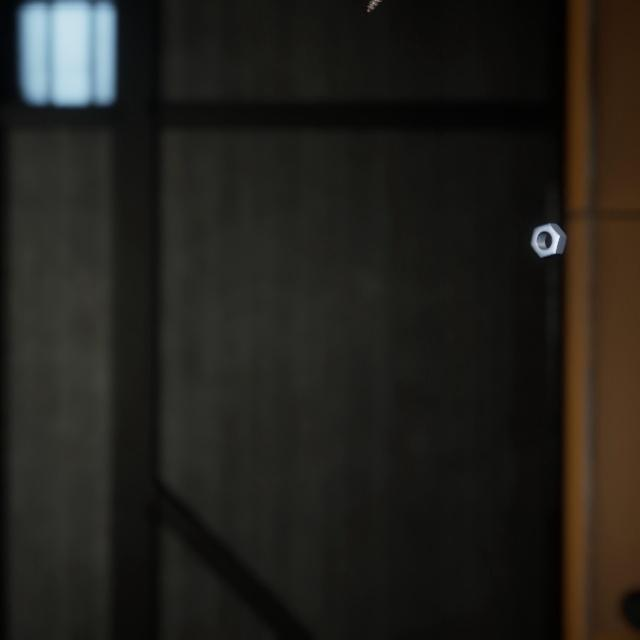nut: (525, 203, 571, 246)
